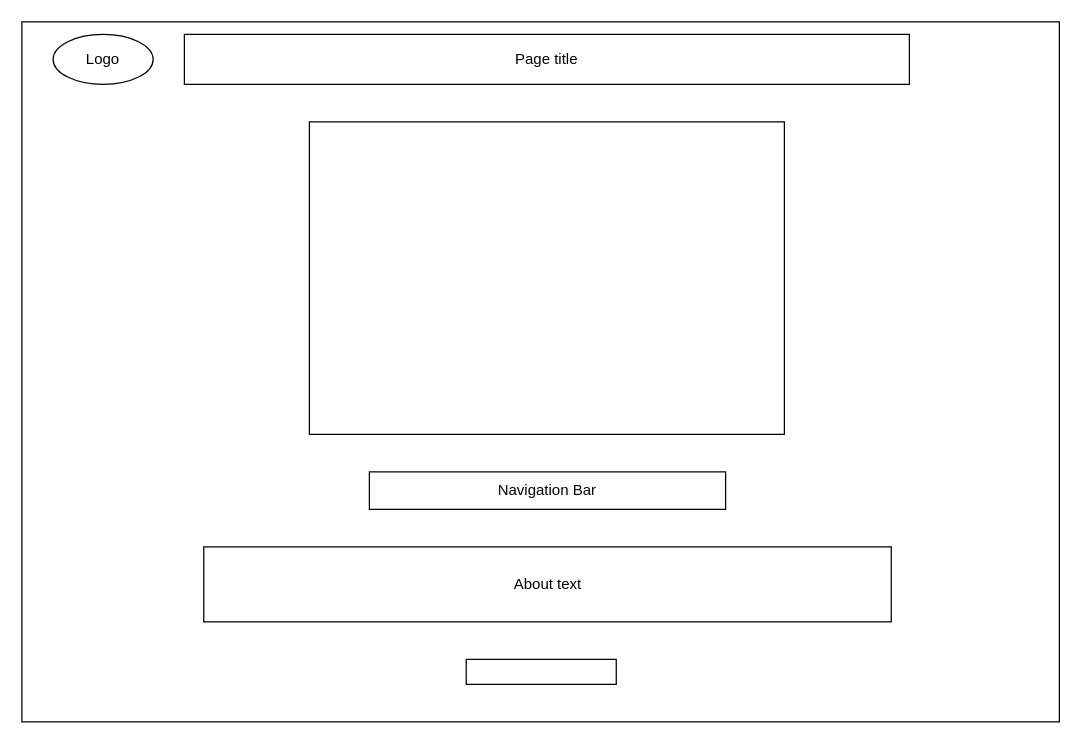
Image size: 1081x744. Some labels were removed from this diagram. The centre of each missing label's shape, as x and y in pixels:
Content: [546,277]
Footer: [540,671]
